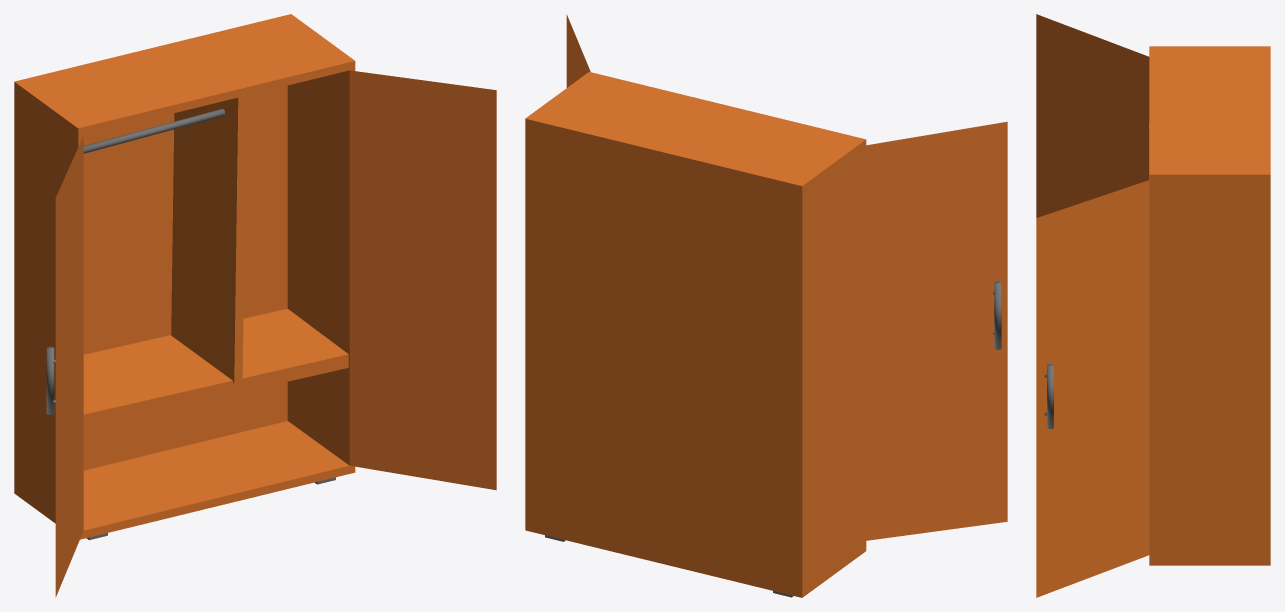
File: Armario.fbx
3 views of the same model, side by side, from view 1: azimuth 30°, elevation 25°; view 2: azimuth 150°, elevation 25°; view 3: azimuth 270°, elevation 25° (orthographic). The views are drawn at different scales.
Parts seen in each view (by area): view 1: Cuerpo, Puerta, Separador, BarraCamisas; view 2: Cuerpo, Puerta; view 3: Cuerpo, Puerta, Agarradera.
Part boxes in pixels (x1,y1,x2,y2): Cuerpo: (14,14,355,539); Puerta: (55,70,496,597); Separador: (83,90,348,427); BarraCamisas: (83,108,224,153); Cuerpo: (525,72,866,597); Puerta: (566,14,1007,540); Cuerpo: (1149,46,1270,565); Puerta: (1036,14,1149,597); Agarradera: (1044,364,1053,428).
Size of the model in its own units: 240 by 216 by 116.
